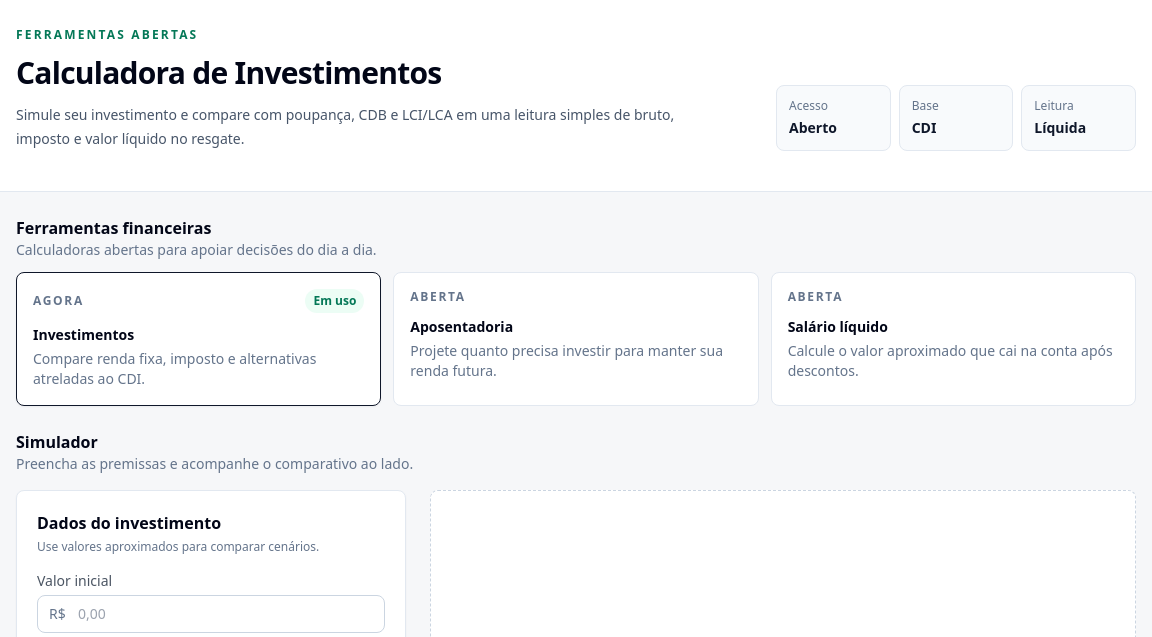
Test: InvestimentosPage › formats money input on blur and loads projected CDI automatically
Type "1000" into the field labelled "Valor inicial" at (211, 614), box [37,595,385,633]
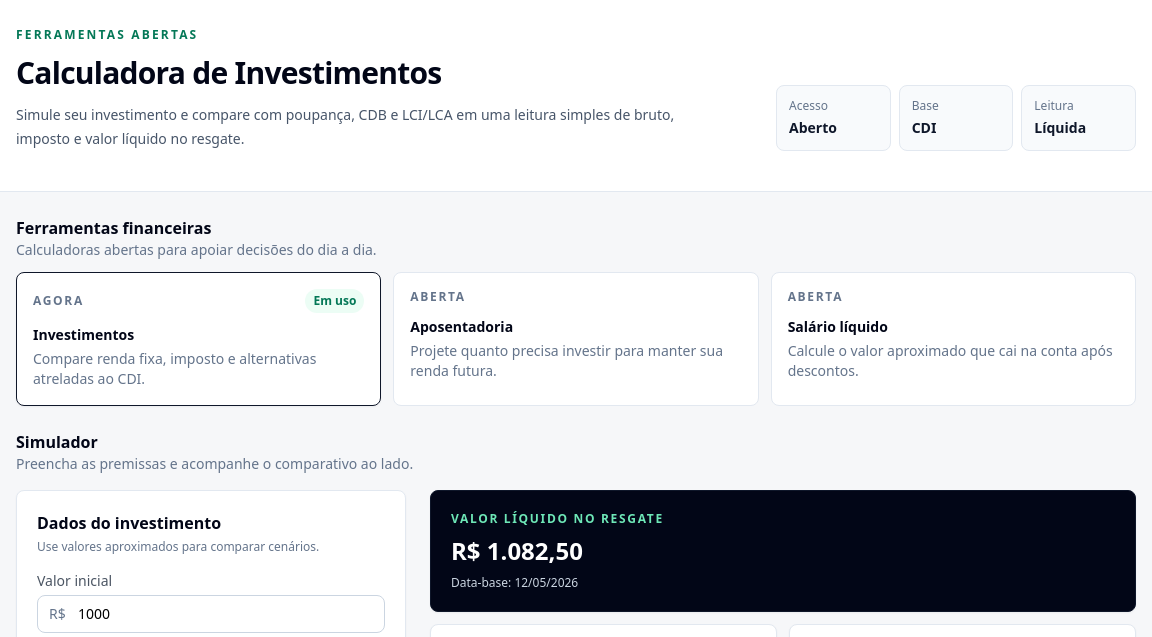
Leave the field showing "1000", box [37,595,385,633]
(page scrolled)
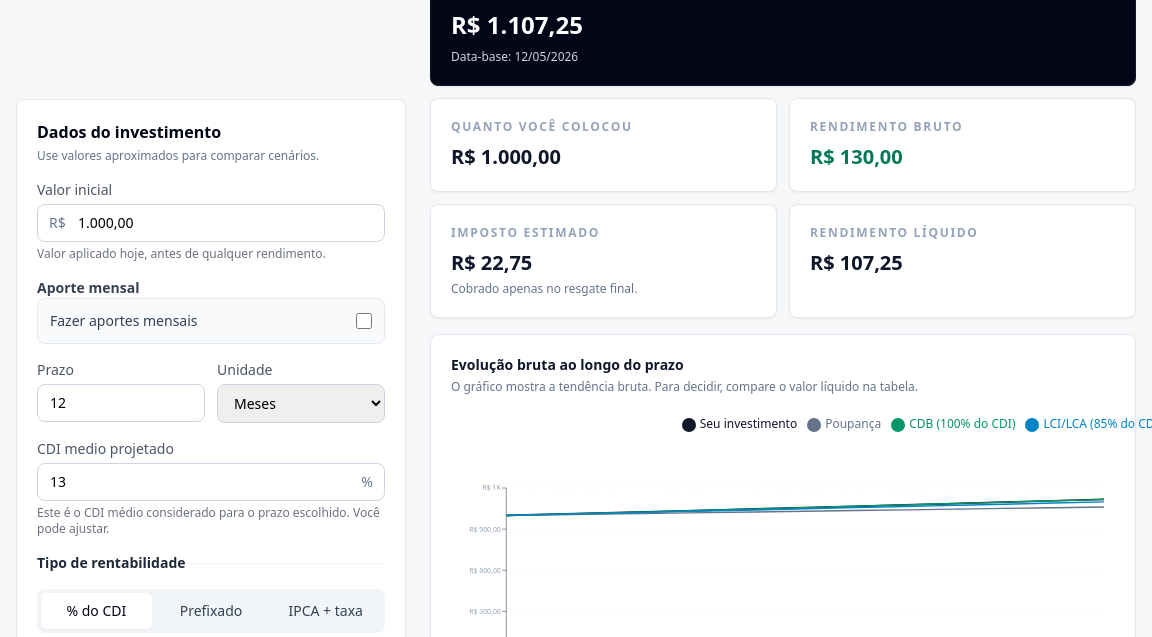
Expected: the field showing "1.000,00" is shown, [37,204,385,242]
Expected: the field showing "13" is shown, [37,463,385,501]
